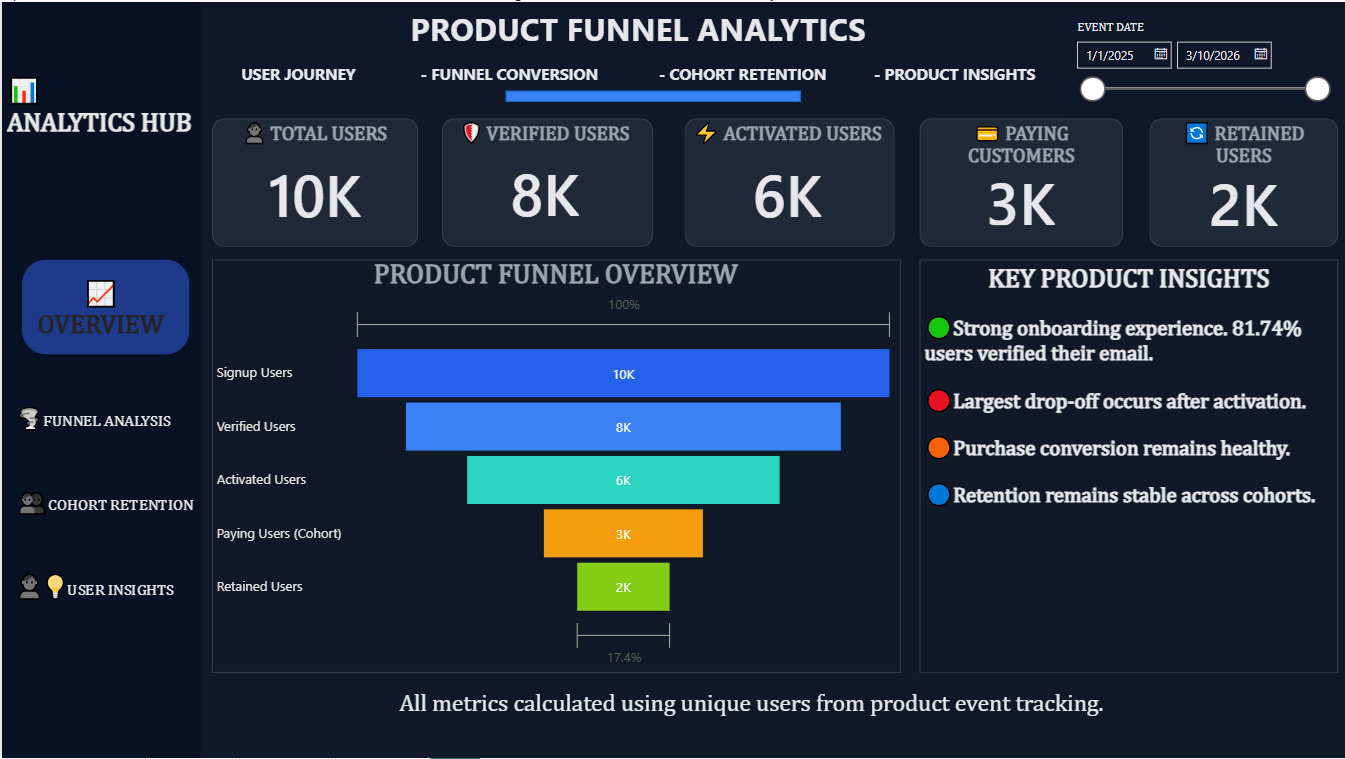

This screenshot's page, from the dashboard's own definition file:
{"tool":"powerbi","page":{"name":"Page 1","canvas":[1366,768],"ordinal":0},"visuals":[{"type":"textbox","box":[213.3,0,866,57.1],"z":0},{"type":"textbox","box":[213.3,57.1,866,33],"z":1000},{"type":"shape","box":[511.7,90.2,299.7,11.4],"z":2000},{"type":"slicer","fields":{"Values":["events_csv.event_date"]},"box":[1079.4,14,278.1,104.1],"z":3000},{"type":"shape","box":[0,0,201.9,768.3],"z":4000},{"type":"shape","box":[213.3,118.1,209.5,130.8],"z":5000},{"type":"shape","box":[447,118.1,214.6,130.8],"z":6000},{"type":"shape","box":[693.3,118.1,213.3,130.8],"z":7000},{"type":"shape","box":[932.1,118.1,207,130.8],"z":8000},{"type":"shape","box":[1165.7,118.1,191.7,130.8],"z":9000},{"type":"cardVisual","title":"👤 TOTAL USERS","fields":{"Data":["events_csv.Total Users"]},"box":[213.3,118.1,209.5,130.8],"z":10000},{"type":"cardVisual","title":"🛡️ VERIFIED USERS","fields":{"Data":["events_csv.Verified Users"]},"box":[447,118.1,209.5,127],"z":11000},{"type":"cardVisual","title":"⚡ ACTIVATED USERS","fields":{"Data":["events_csv.Activated Users"]},"box":[693.3,118.1,209.5,130.8],"z":12000},{"type":"cardVisual","title":"💳 PAYING CUSTOMERS","fields":{"Data":["events_csv.Paying Users"]},"box":[932.1,118.1,207,127],"z":13000},{"type":"cardVisual","title":"🔄 RETAINED USERS","fields":{"Data":["events_csv.Retained Users"]},"box":[1165.7,118.1,191.7,128.3],"z":14000},{"type":"shape","box":[213.3,261.6,700,420],"z":15000},{"type":"funnel","title":"PRODUCT FUNNEL OVERVIEW","fields":{"Y":["events_csv.Signup Users","events_csv.Verified Users","events_csv.Activated Users","events_csv.Paying Users","events_csv.Retained Users"]},"box":[213.3,261.6,698.4,420.3],"z":16000},{"type":"shape","box":[932.1,261.6,425.4,420.3],"z":17000},{"type":"textbox","box":[932.1,261.6,425.4,420.3],"z":18000},{"type":"textbox","box":[334,695.9,854.6,49.5],"z":19000},{"type":"textbox","box":[0,66,201.9,94],"z":20000},{"type":"shape","box":[20.3,261.6,170.2,96.5],"z":21000},{"type":"textbox","box":[20.3,271.7,160,86.3],"z":22000},{"type":"textbox","box":[8.9,402.5,193,240],"z":23000}]}

Visuals, with their boxes in screenshot pixels (x1, y1, x2, y2), scaled from the page's 1366x768 canvas onto the 1345x759 screenshot:
textbox: pyautogui.locateOnScreen(210, 0, 1063, 56)
textbox: pyautogui.locateOnScreen(210, 56, 1063, 89)
shape: pyautogui.locateOnScreen(504, 89, 799, 100)
slicer - events_csv.event_date: pyautogui.locateOnScreen(1063, 14, 1337, 117)
shape: pyautogui.locateOnScreen(0, 0, 199, 758)
shape: pyautogui.locateOnScreen(210, 117, 416, 246)
shape: pyautogui.locateOnScreen(440, 117, 651, 246)
shape: pyautogui.locateOnScreen(683, 117, 893, 246)
shape: pyautogui.locateOnScreen(918, 117, 1122, 246)
shape: pyautogui.locateOnScreen(1148, 117, 1337, 246)
"👤 TOTAL USERS" cardVisual: pyautogui.locateOnScreen(210, 117, 416, 246)
"🛡️ VERIFIED USERS" cardVisual: pyautogui.locateOnScreen(440, 117, 646, 242)
"⚡ ACTIVATED USERS" cardVisual: pyautogui.locateOnScreen(683, 117, 889, 246)
"💳 PAYING CUSTOMERS" cardVisual: pyautogui.locateOnScreen(918, 117, 1122, 242)
"🔄 RETAINED USERS" cardVisual: pyautogui.locateOnScreen(1148, 117, 1337, 244)
shape: pyautogui.locateOnScreen(210, 259, 899, 674)
"PRODUCT FUNNEL OVERVIEW" funnel: pyautogui.locateOnScreen(210, 259, 898, 674)
shape: pyautogui.locateOnScreen(918, 259, 1337, 674)
textbox: pyautogui.locateOnScreen(918, 259, 1337, 674)
textbox: pyautogui.locateOnScreen(329, 688, 1170, 737)
textbox: pyautogui.locateOnScreen(0, 65, 199, 158)
shape: pyautogui.locateOnScreen(20, 259, 188, 354)
textbox: pyautogui.locateOnScreen(20, 269, 178, 354)
textbox: pyautogui.locateOnScreen(9, 398, 199, 635)
